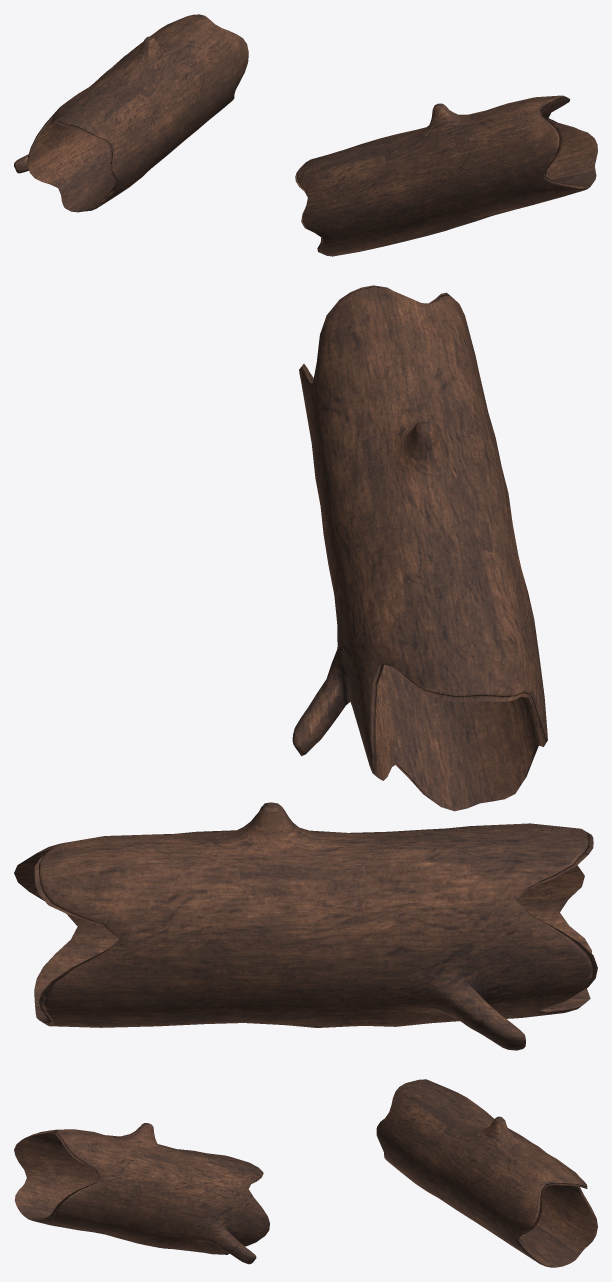
Rendered from troncos1.obj.
3 renders of one model, top to bottom at view 1: azimuth 30°, elevation 25°; view 2: azimuth 150°, elevation 25°; view 3: azimuth 270°, elevation 25°, orthographic. The views are drawn at different scales.
Parts seen in each view (by area): view 1: Tronco_UVs3:pCylinder1; view 2: Tronco_UVs3:pCylinder1; view 3: Tronco_UVs3:pCylinder1.
Boxes of the visible parts, x1,y1,x2,y2 form: Tronco_UVs3:pCylinder1: (14,14,597,256); Tronco_UVs3:pCylinder1: (14,285,597,1050); Tronco_UVs3:pCylinder1: (14,1079,597,1267).
Bounding box in the file's own units: 2.28 × 1.13 × 3.36.
2 materials, 2 textured.
